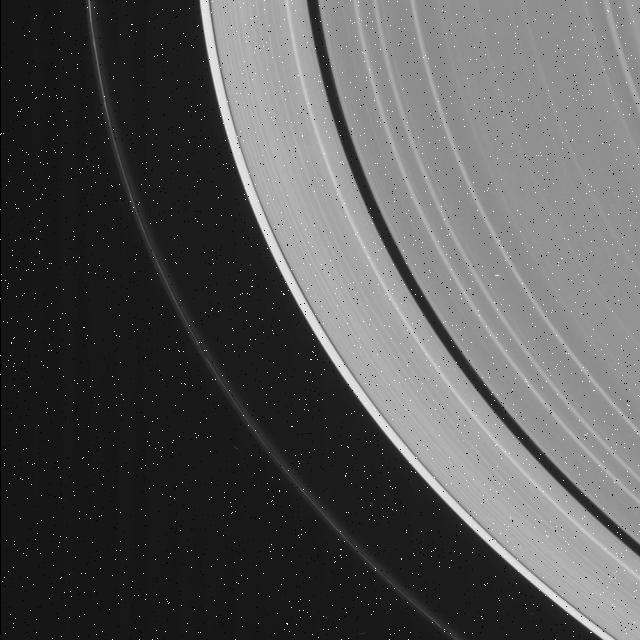Saturn: (80, 0, 640, 640)
